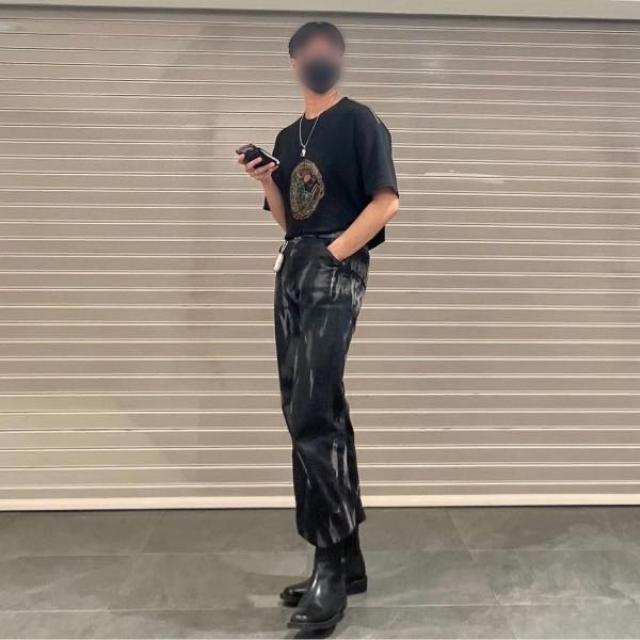denimpants: (278, 234, 370, 548)
shortsleeve: (262, 92, 396, 251)
